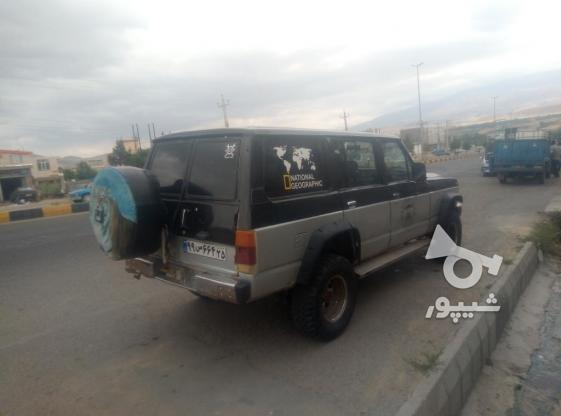car: (181, 240, 230, 262)
